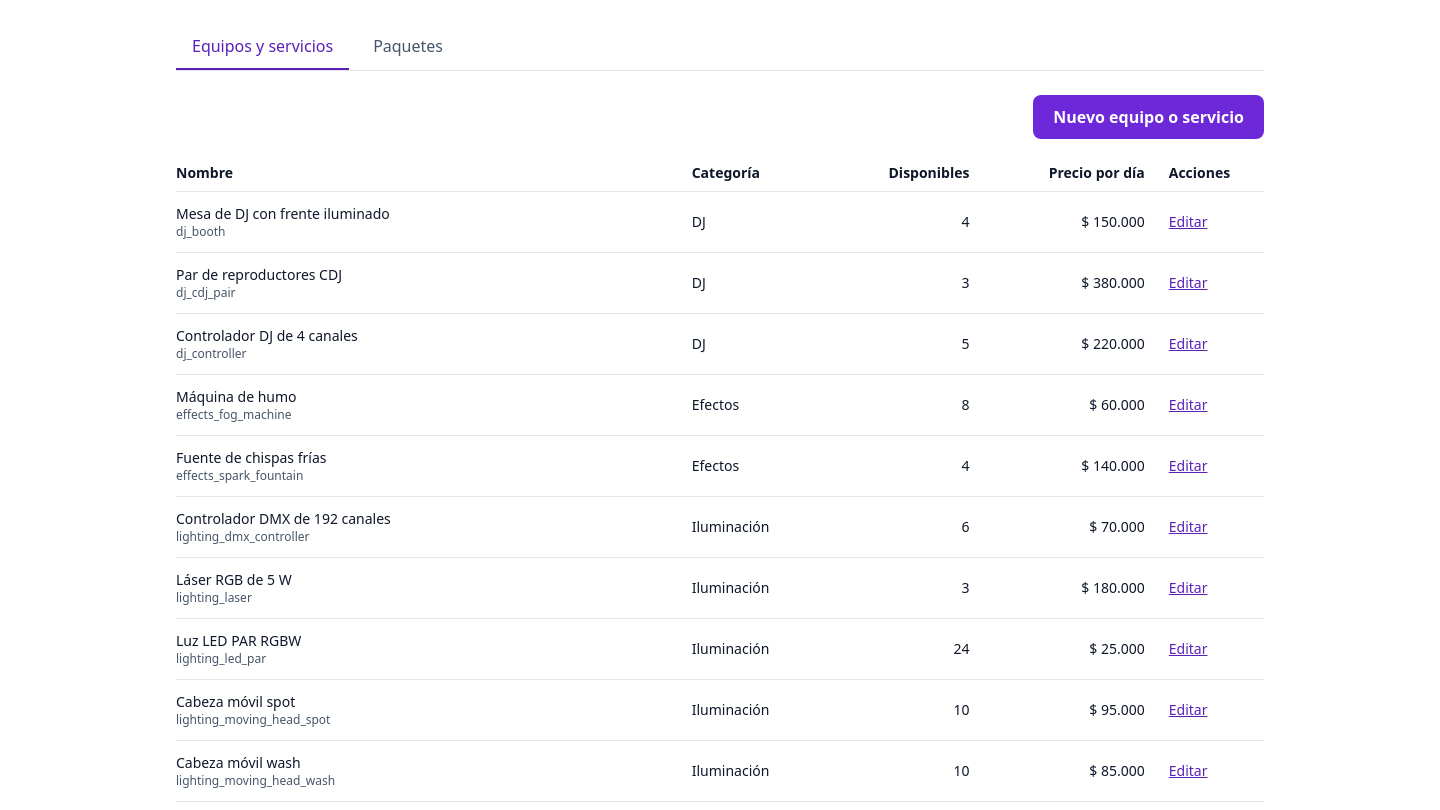
Test case: catalog admin: items › edits an item keeping its code fixed
(page scrolled)
Click the button "Editar" in the row of "Máquina de humo": {"x": 1188, "y": 405} left=1169, top=383, right=1208, bottom=427
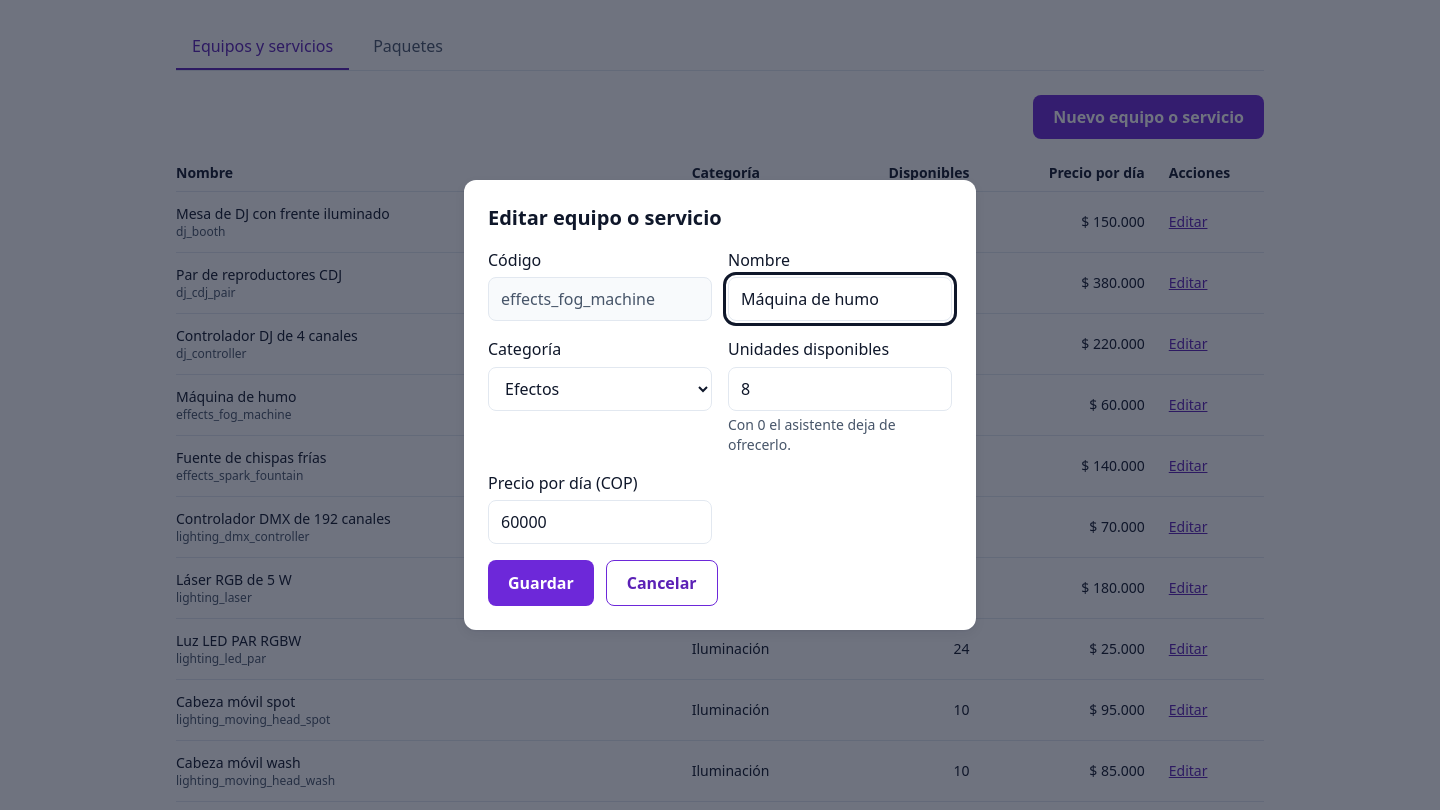
Expected: the field labelled "Código" is disabled, left=488, top=277, right=712, bottom=321
Replace the text in the field labelled "Unidades disponibles" with "0": {"x": 840, "y": 389} left=728, top=367, right=952, bottom=411
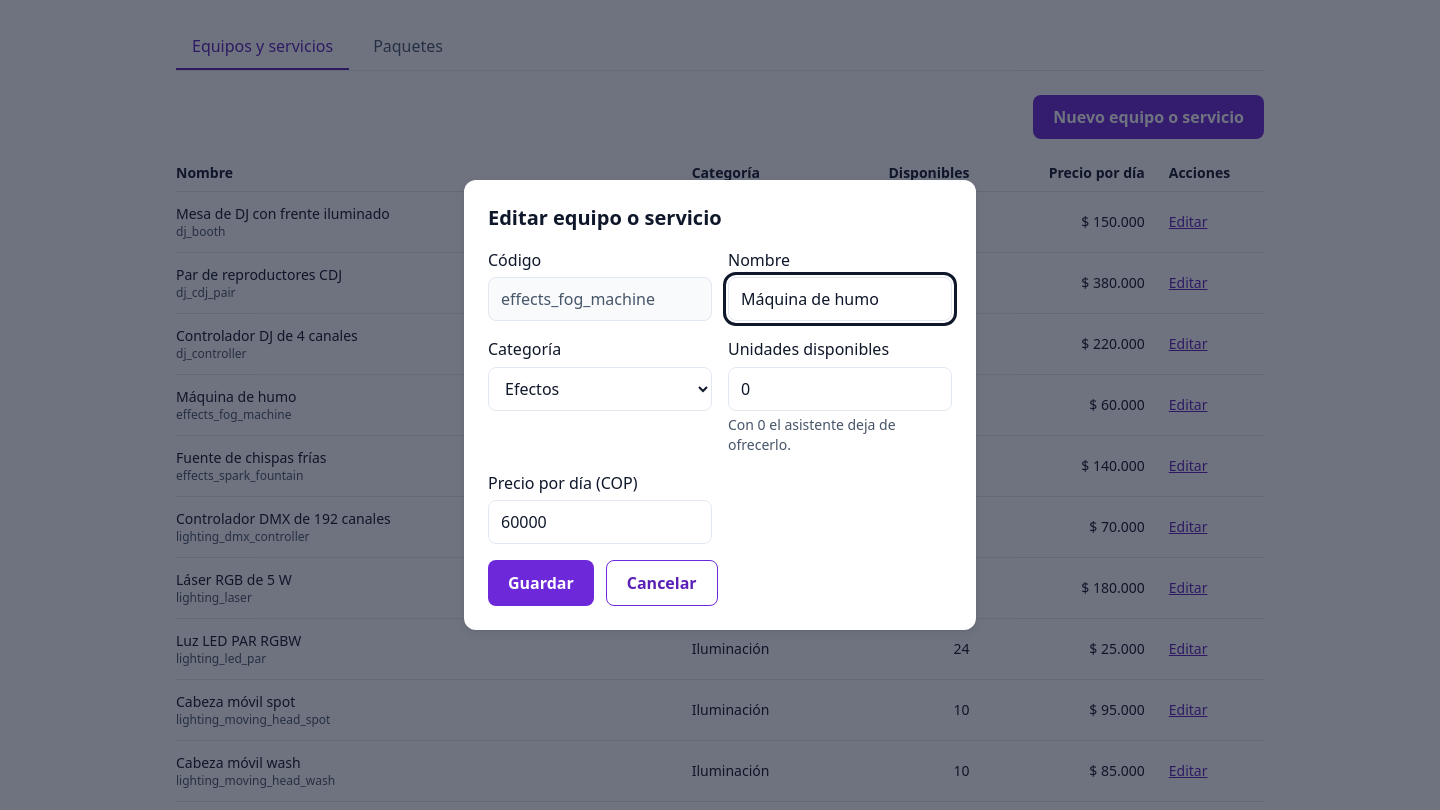
Click the button "Guardar": {"x": 541, "y": 583} left=488, top=560, right=594, bottom=606
(page scrolled)
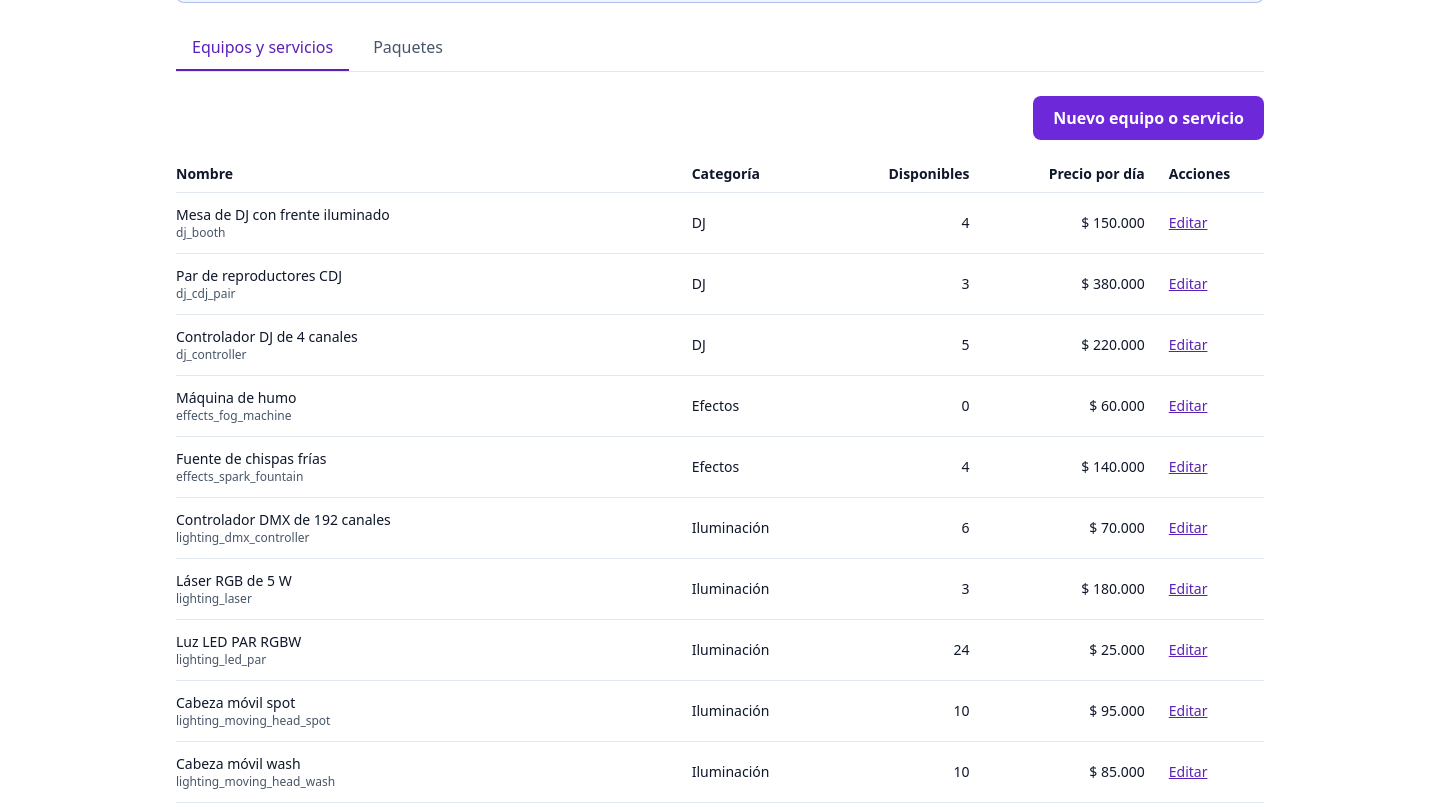
Expected: the text "0" is shown, left=828, top=375, right=982, bottom=436
